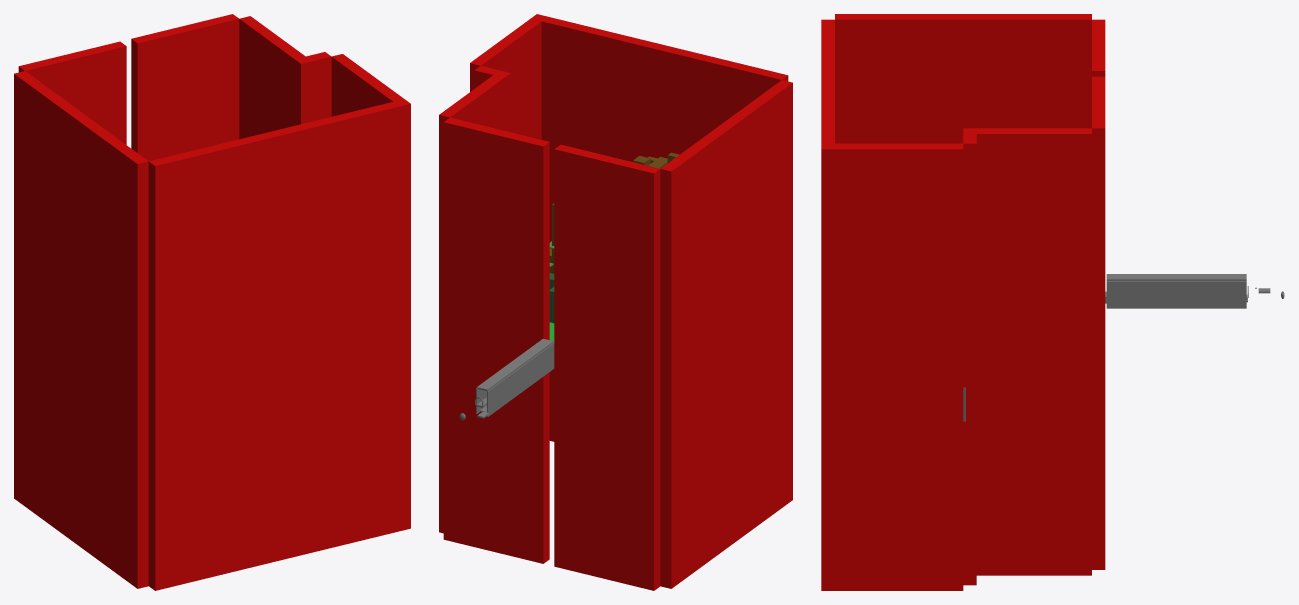
File: World_Placeholders.fbx
The picture shows the model from 3 angles, left to right: view 1: azimuth 30°, elevation 25°; view 2: azimuth 150°, elevation 25°; view 3: azimuth 270°, elevation 25°; orthographic projection. The views are drawn at different scales.
Parts seen in each view (by area): view 1: Cube__10_, Cube__11_, Cube__18_, Cube__5__1, Cube__17_, Cube__7__1, Cube__8_, Cube__12_; view 2: Cube__11_, Cube__7__1, Cube__5__1, Cube__10_, Cube__18_, Cube__8_, Cube__17_, Cube__23_, Cube__24__1, Cube__12_; view 3: Cube__8_, Cube__17_, Cube__11_, Cube__5__1, Cube__18_, Cube__12_, Cube__22__1, Cube__10_, Cube__24__1, Cube__7__1.
Part boxes in pixels (x1,y1,x2,y2): Cube__10_: (148,109,369,590); Cube__11_: (14,71,148,588); Cube__18_: (363,99,410,538); Cube__5__1: (131,14,239,161); Cube__17_: (239,16,312,139); Cube__7__1: (18,41,126,144); Cube__8_: (331,54,403,116); Cube__12_: (294,52,331,125); Cube__11_: (660,80,792,588); Cube__7__1: (554,144,660,590); Cube__5__1: (443,117,549,563); Cube__10_: (571,24,788,161); Cube__18_: (531,14,577,441); Cube__8_: (470,18,541,139); Cube__17_: (439,72,510,533); Cube__23_: (487,343,554,416); Cube__24__1: (477,338,553,391); Cube__12_: (474,66,510,132); Cube__8_: (835,143,963,590); Cube__17_: (976,128,1091,575); Cube__11_: (835,14,1091,143); Cube__5__1: (1092,76,1105,569); Cube__18_: (821,128,834,590); Cube__12_: (963,128,976,585); Cube__22__1: (1106,281,1246,308); Cube__10_: (821,19,834,128); Cube__24__1: (1106,274,1246,280); Cube__7__1: (1092,19,1105,76).
Size of the model in its own units: 26300 by 40000 by 38010.
